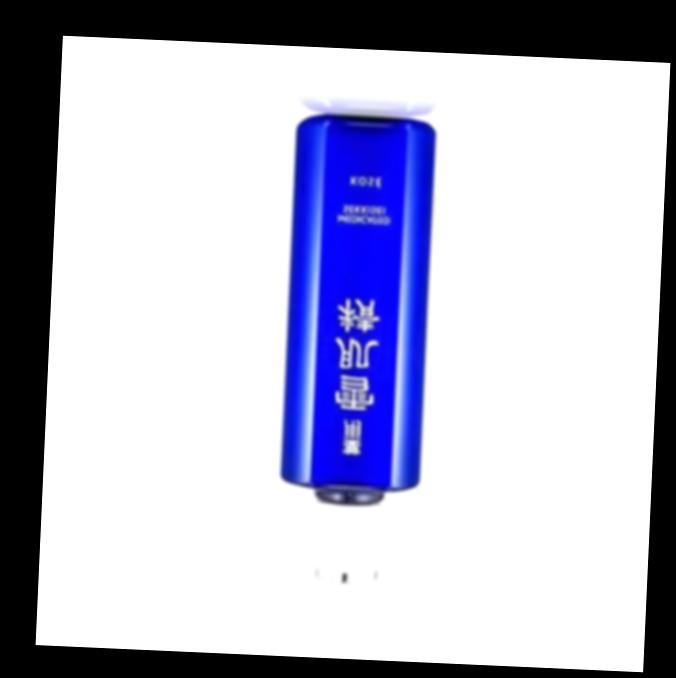cosmetic: (273, 111, 444, 583)
